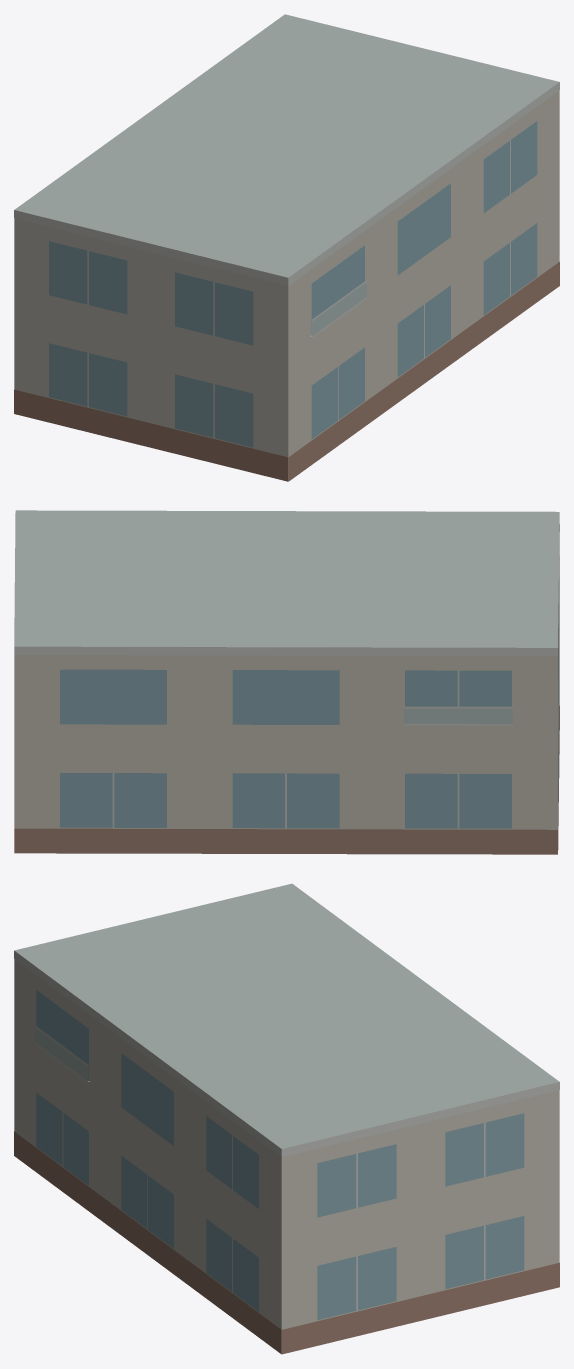
The model's file is survey-upis-32694479.glb.
The picture shows the model from 3 angles, top to bottom: view 1: azimuth 30°, elevation 25°; view 2: azimuth 150°, elevation 25°; view 3: azimuth 270°, elevation 25°; orthographic projection.
Parts seen in each view (by area): view 1: survey-upis-32694479.tmp; view 2: survey-upis-32694479.tmp; view 3: survey-upis-32694479.tmp.
Boxes of the visible parts, box(x1,y1,x2,y2) form: survey-upis-32694479.tmp: box(14, 14, 559, 481); survey-upis-32694479.tmp: box(14, 510, 559, 854); survey-upis-32694479.tmp: box(14, 883, 559, 1354).
Bounding box in the file's own units: 16.93 × 6.1 × 14.7.
